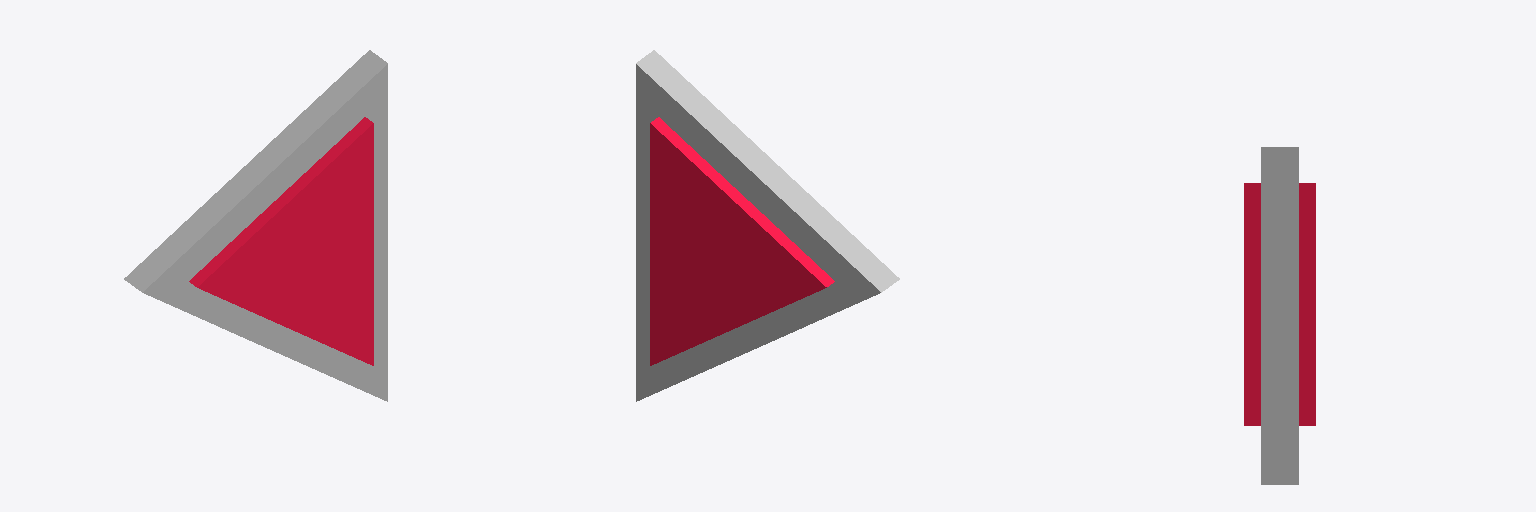
Rendered from toggle-component.obj.
The picture shows the model from 3 angles: view 1: azimuth 30°, elevation 25°; view 2: azimuth 150°, elevation 25°; view 3: azimuth 270°, elevation 25°; orthographic projection.
Parts seen in each view (by area): view 1: Outer, Inner; view 2: Outer, Inner; view 3: Outer, Inner.
Boxes of the visible parts, <box> form: Outer: <box>124,50,387,401</box>; Inner: <box>189,117,373,365</box>; Outer: <box>636,50,899,401</box>; Inner: <box>650,117,834,365</box>; Outer: <box>1261,147,1298,484</box>; Inner: <box>1244,183,1315,425</box>.
Bounding box in the file's own units: 0.0076 × 0.01 × 0.0019.